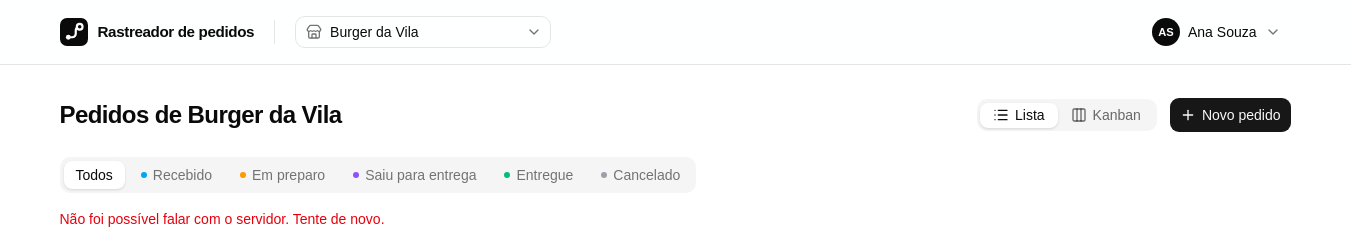
restaurants › lets an owner switch between their restaurants
The width and height of the screenshot is (1366, 244).
Check: the heading "Pedidos de Burger da Vila" is shown, box [60,99,342,131]
What coordinates should you click on to do the following:
click the dropdown named "Restaurante selecionado"
I would click on:
 (423, 32)
Its box is [295,16,551,48].
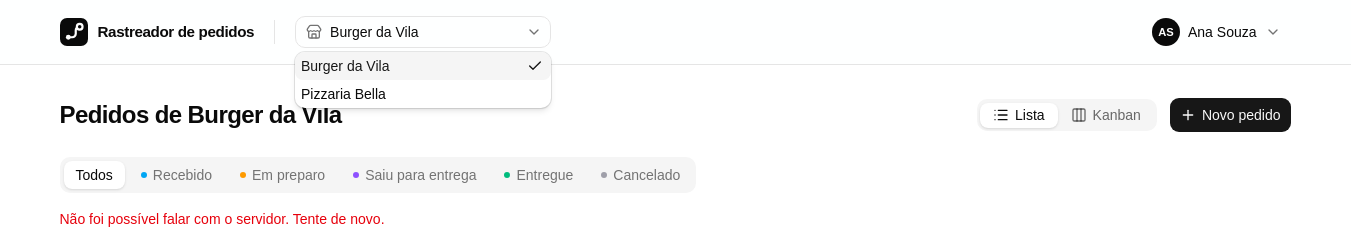
What coordinates should you click on to do the following:
click the option "Pizzaria Bella"
I would click on:
 (343, 94)
Its box is [301,86,386,102].
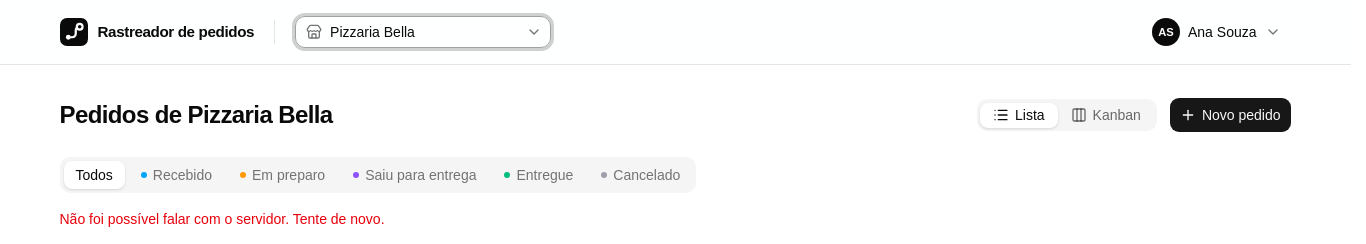
Check: the heading "Pedidos de Pizzaria Bella" is shown, box [60,99,333,131]
